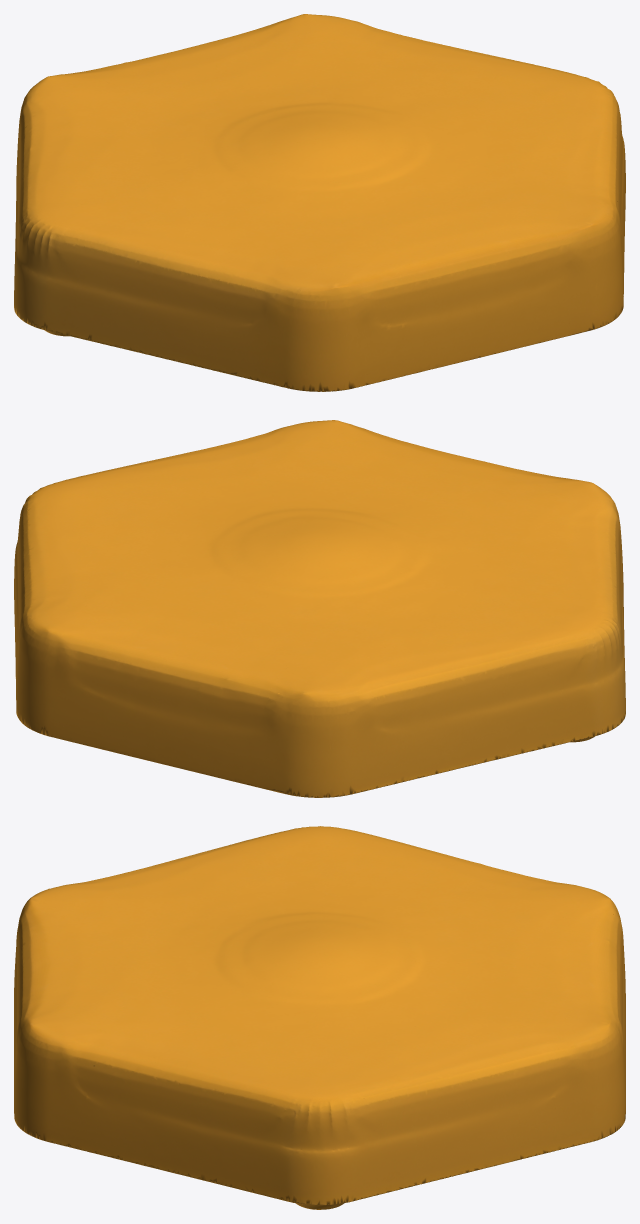
Rendered from Meshy_AI_gold__0321162625_texture.glb.
3 renders of one model, top to bottom at view 1: azimuth 30°, elevation 25°; view 2: azimuth 150°, elevation 25°; view 3: azimuth 270°, elevation 25°, orthographic.
Size of the model in its own units: 1.9 by 0.3853 by 1.68.
1 material, 1 textured.
